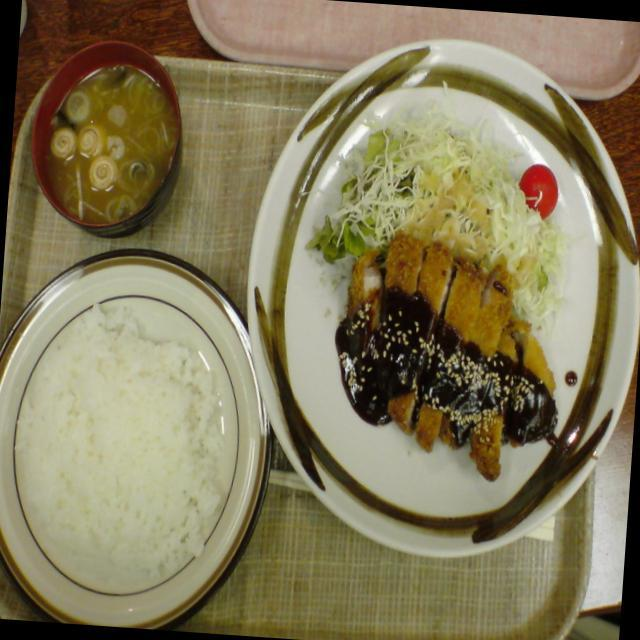Rice: (0, 229, 283, 626)
